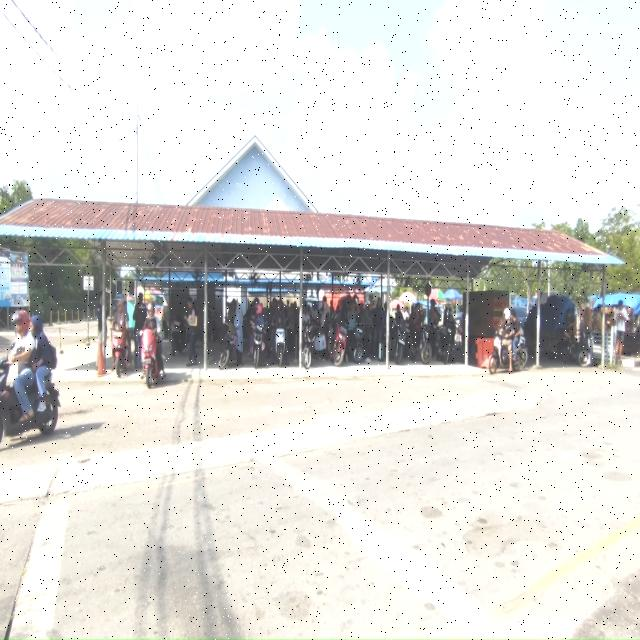Golongan II: (0, 357, 60, 441), (489, 335, 521, 374), (140, 327, 160, 389), (111, 326, 132, 378), (436, 320, 456, 364), (329, 321, 348, 366), (219, 324, 237, 370), (302, 322, 319, 370), (561, 339, 590, 367), (393, 319, 409, 365), (171, 316, 187, 356), (350, 324, 364, 364), (252, 323, 264, 369), (419, 324, 432, 364), (275, 327, 286, 367), (516, 336, 528, 369)
